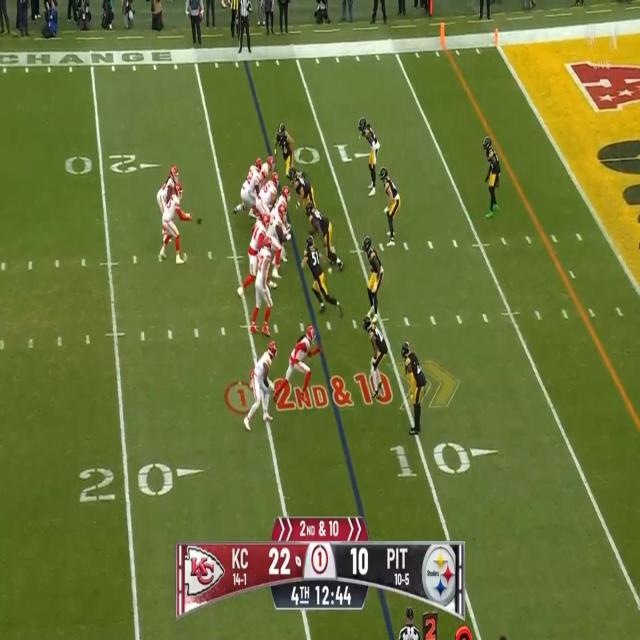Ball: (194, 214, 204, 229)
